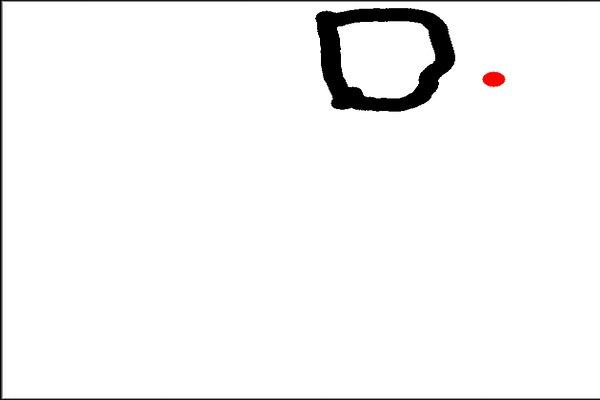D: (311, 2, 456, 121)
